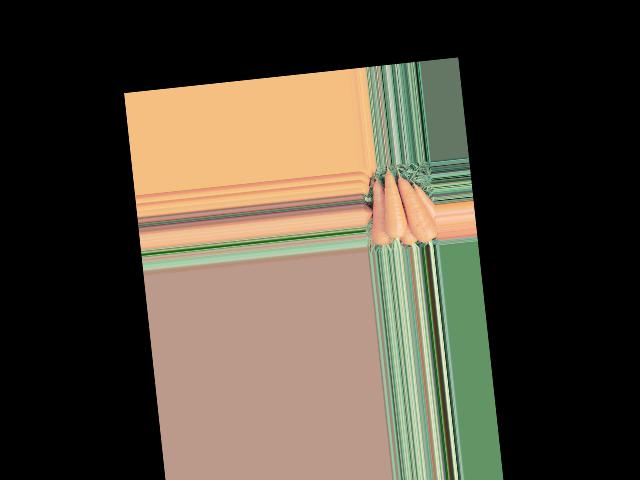carrot: (395, 171, 435, 243)
